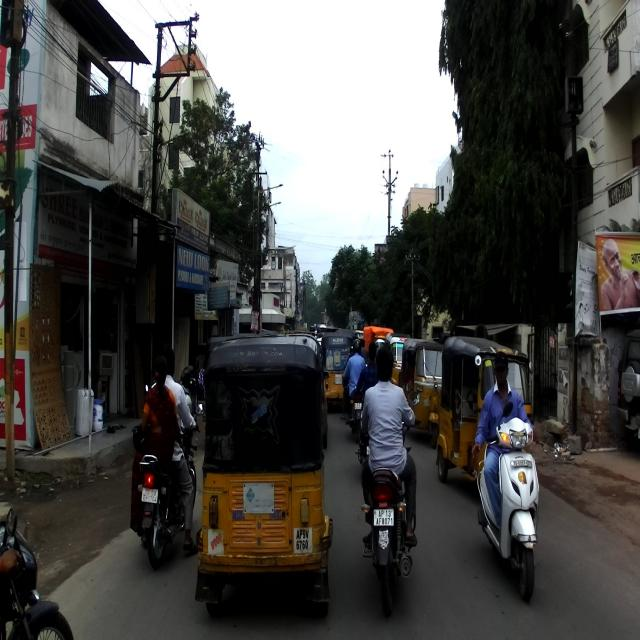autorickshaw: (194, 329, 333, 632), (434, 334, 533, 504), (398, 338, 448, 447)
motorcycle_Hero: (137, 402, 203, 571)
motorcycle_Honda: (354, 388, 422, 600), (342, 370, 370, 441)
scooter: (472, 399, 540, 601)
